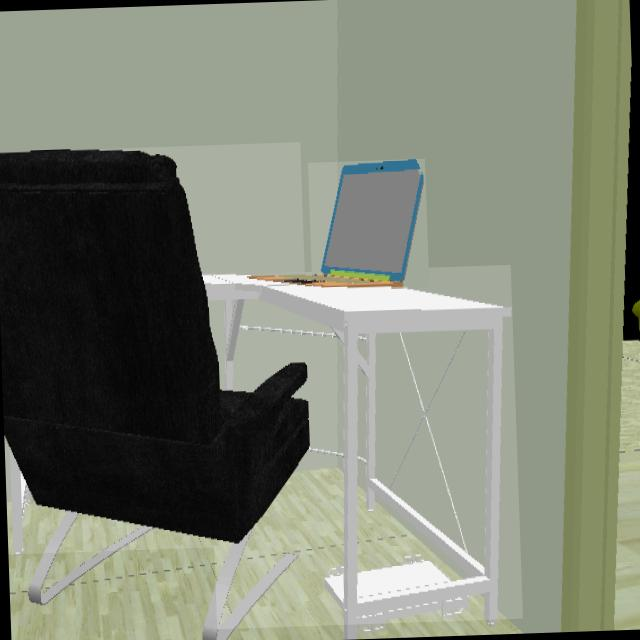chair: (0, 150, 309, 546)
laptop: (311, 159, 425, 287)
table: (204, 275, 512, 624)
